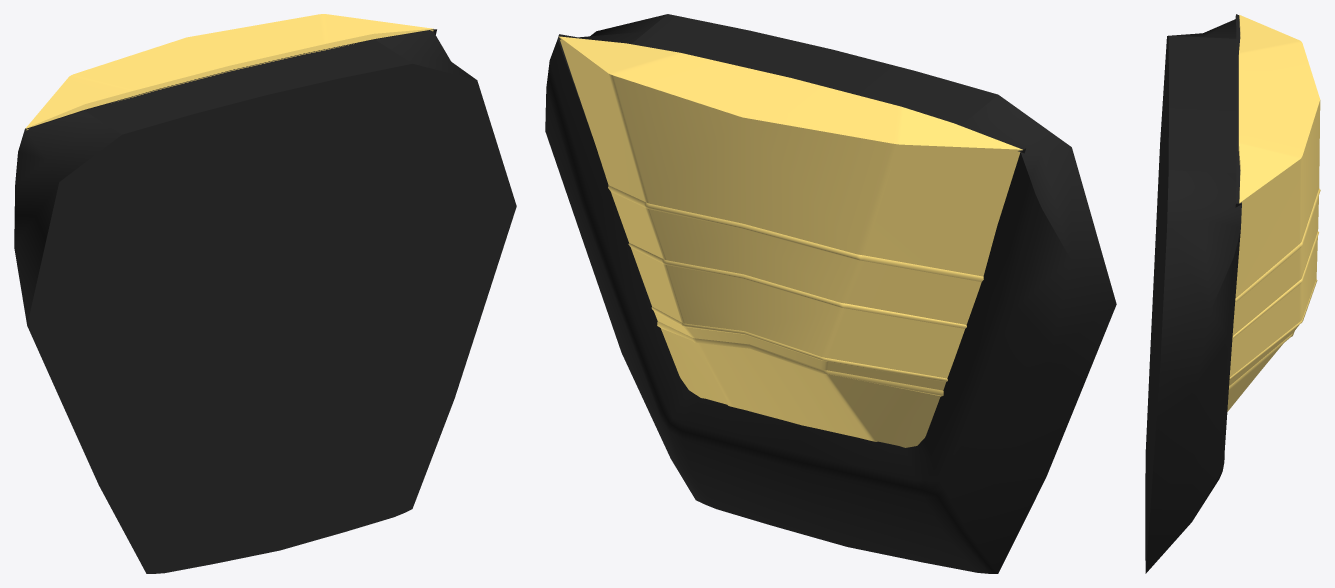
The model's file is golden-handle.glb.
3 renders of one model, left to right at view 1: azimuth 30°, elevation 25°; view 2: azimuth 150°, elevation 25°; view 3: azimuth 270°, elevation 25°, orthographic. The views are drawn at different scales.
Visible parts, largest first — view 1: armrest1; view 2: armrest1; view 3: armrest1.
Boxes of the visible parts, <box> form: armrest1: <box>14,14,516,573</box>; armrest1: <box>545,14,1116,573</box>; armrest1: <box>1145,14,1320,573</box>.
Size of the model in its own units: 0.02 by 0.0176 by 0.00658.
